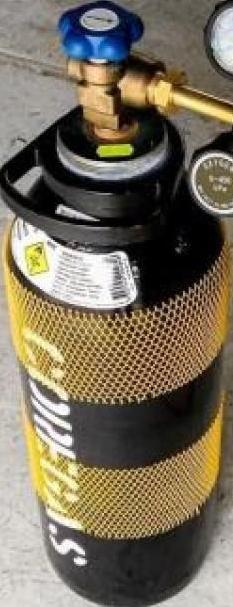cylinder: (1, 1, 233, 607)
